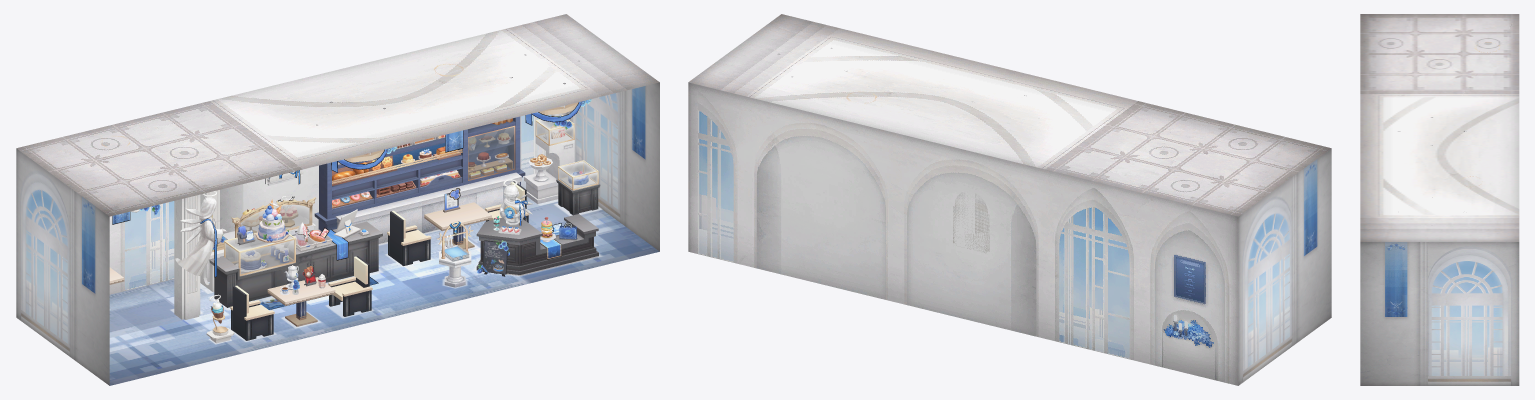
Rendered from dessertShop.glb.
The picture shows the model from 3 angles, left to right: view 1: azimuth 30°, elevation 25°; view 2: azimuth 150°, elevation 25°; view 3: azimuth 270°, elevation 25°; orthographic projection. The views are drawn at different scales.
Visible parts, largest first — view 1: ROOM_room, ROOM_floor, furni_dessertShop_dessertCounter_01, furni_dessertShop_cashier_01, furni_dessertShop_dessertCounter_04, furni_dessertShop_storageTable_01, furni_dessertShop_storageTable_02, furni_dessertShop_arch_01, furni_dessertShop_dessertCounter_05, furni_dessertShop_combinationCabinet_01, furni_dessertShop_arch_02, furni_dessertShop_cashier_04 (+19 smaller); view 2: ROOM_room, ROOM_LDoor, furni_dessertShop_wallShelf_01; view 3: ROOM_room, ROOM_RDoor.
Part boxes in pixels (x1,y1,x2,y2): ROOM_room: [16, 14, 659, 385]; ROOM_floor: [109, 196, 659, 385]; furni_dessertShop_dessertCounter_01: [314, 116, 525, 244]; furni_dessertShop_cashier_01: [209, 209, 382, 307]; furni_dessertShop_dessertCounter_04: [332, 118, 512, 213]; furni_dessertShop_storageTable_01: [476, 219, 598, 276]; furni_dessertShop_storageTable_02: [476, 179, 598, 254]; furni_dessertShop_arch_01: [174, 194, 200, 319]; furni_dessertShop_dessertCounter_05: [468, 125, 515, 180]; furni_dessertShop_combinationCabinet_01: [524, 106, 574, 203]; furni_dessertShop_arch_02: [131, 191, 227, 276]; furni_dessertShop_cashier_04: [225, 234, 294, 274]; ROOM_room: [688, 14, 1331, 385]; ROOM_LDoor: [1299, 251, 1317, 341]; furni_dessertShop_wallShelf_01: [953, 192, 989, 253]; ROOM_room: [1360, 14, 1519, 385]; ROOM_RDoor: [1383, 320, 1416, 385].
Bounding box in the file's own units: 7.52 × 2.2 × 2.22.
7 materials, 7 textured.
